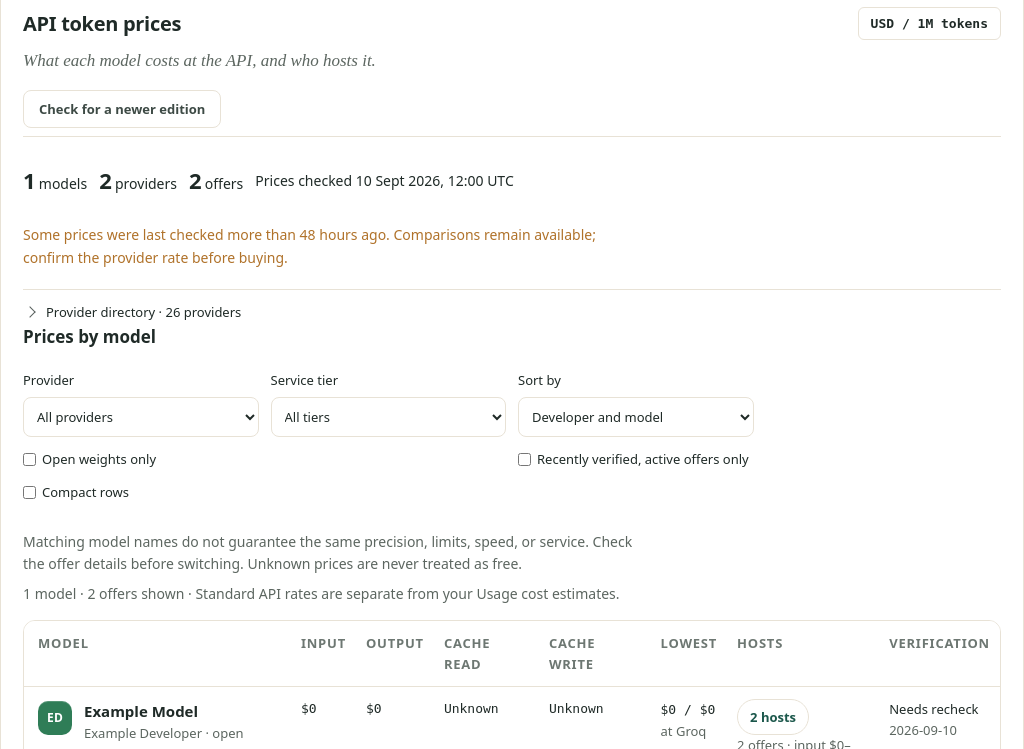
shows one row per model with a headline price and expands to the hosts
Expected: the text "1 model · 2 offers shown" is shown, [23, 583, 648, 606]
Expected: the text "Example Model" is shown, [84, 701, 198, 721]
Click the button "2 hosts": (773, 717) [737, 699, 809, 735]
(page scrolled)
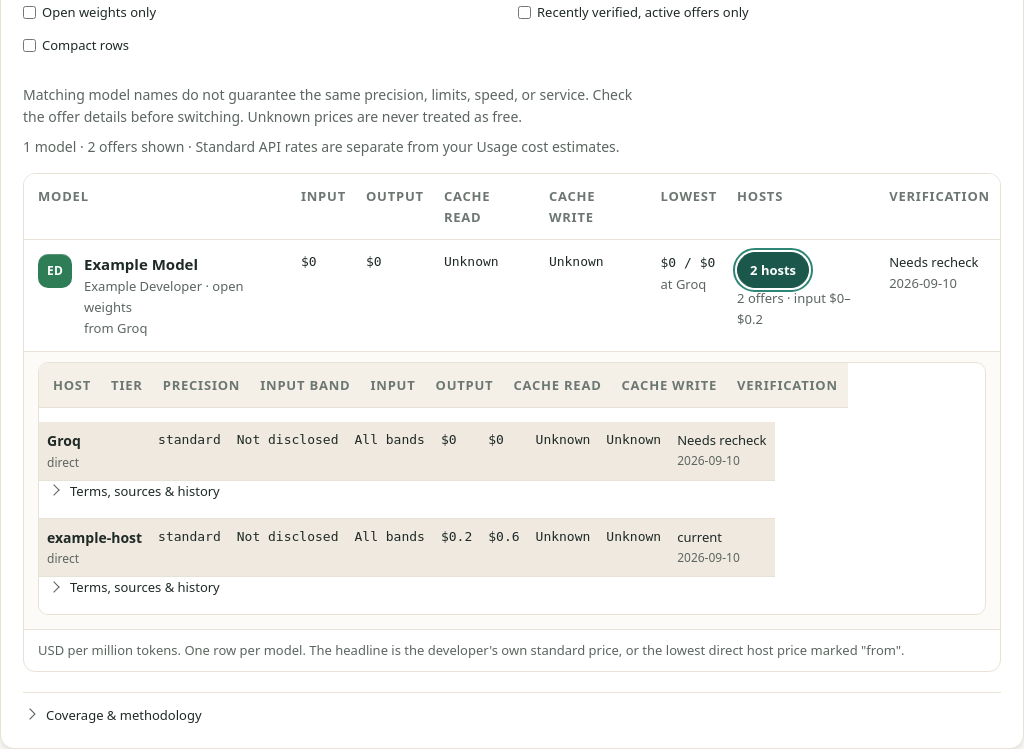
Expected: the 1st text "Unknown" is shown, [434, 240, 539, 351]
Expected: the number of headings "Terms, sources & history" is 2
Click the 1st heading "Terms, sources & history": (145, 491) [70, 482, 220, 500]
(page scrolled)
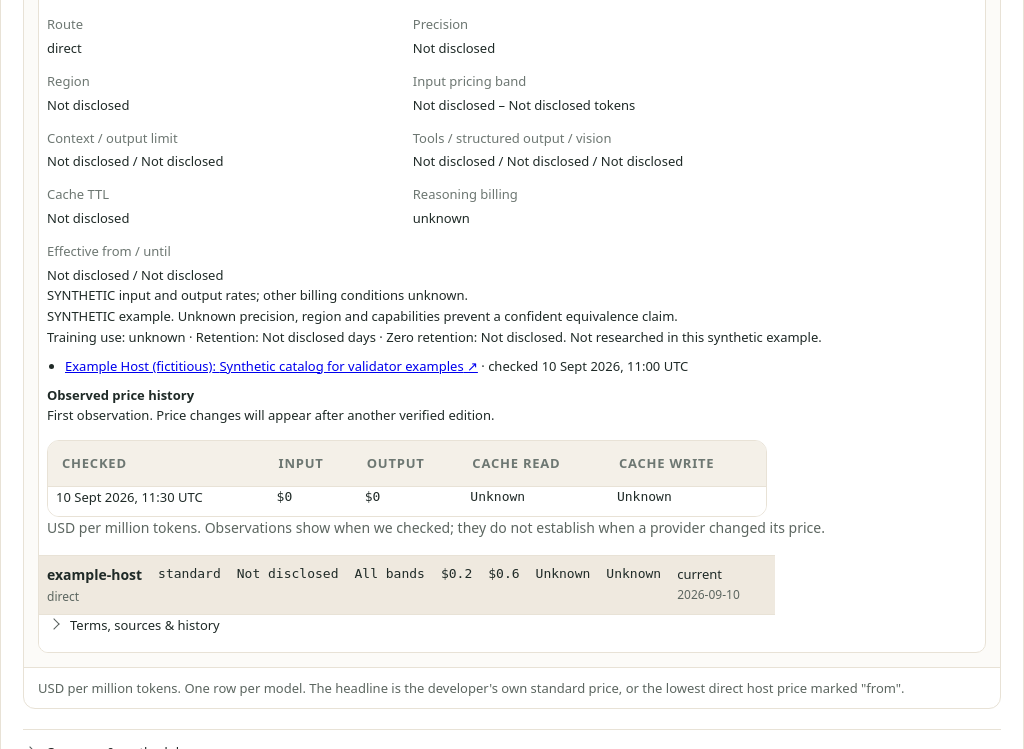
Expected: the text "First observation" is shown, [47, 406, 494, 424]
